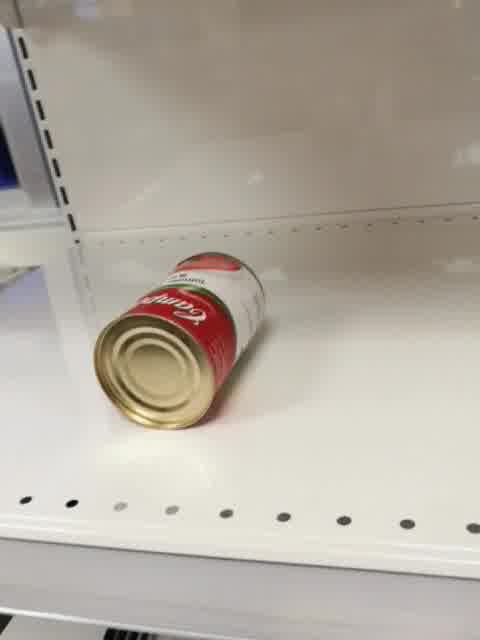tomatosoup: (92, 250, 269, 431)
